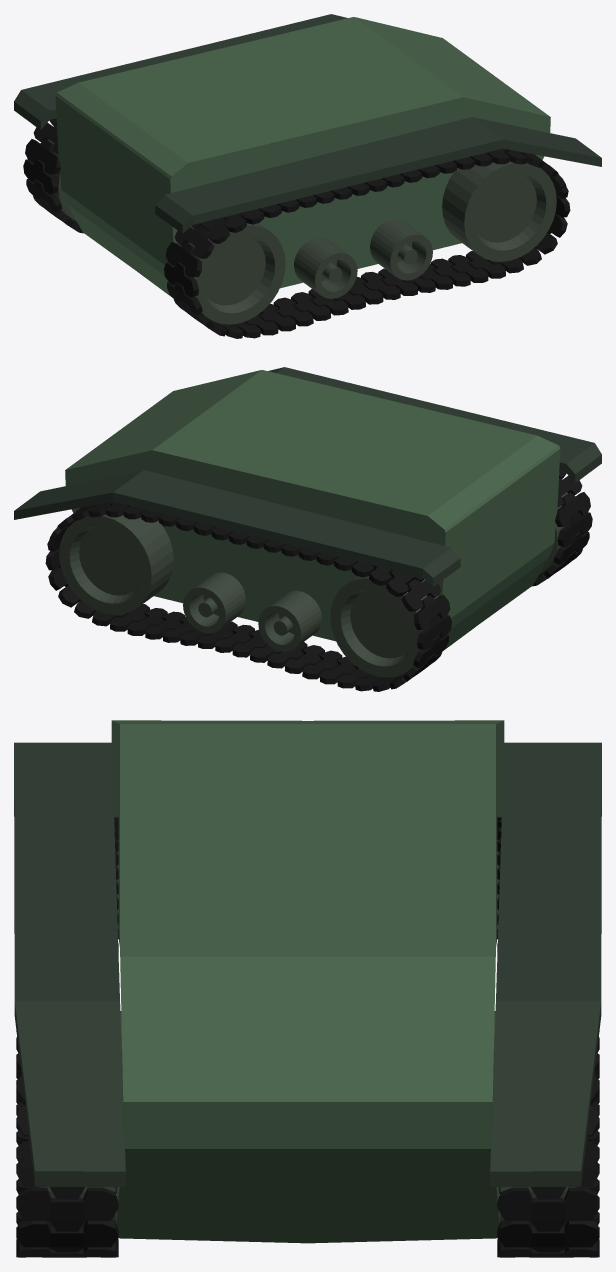
The model's file is TankBase.fbx.
3 renders of one model, top to bottom at view 1: azimuth 30°, elevation 25°; view 2: azimuth 150°, elevation 25°; view 3: azimuth 270°, elevation 25°, orthographic. The views are drawn at different scales.
Parts seen in each view (by area): view 1: TankBase; view 2: TankBase; view 3: TankBase.
Part boxes in pixels (<box>): TankBase: <box>14,14,601,338</box>; TankBase: <box>14,367,601,691</box>; TankBase: <box>14,720,601,1257</box>.
Size of the model in its own units: 278 by 102 by 195.
